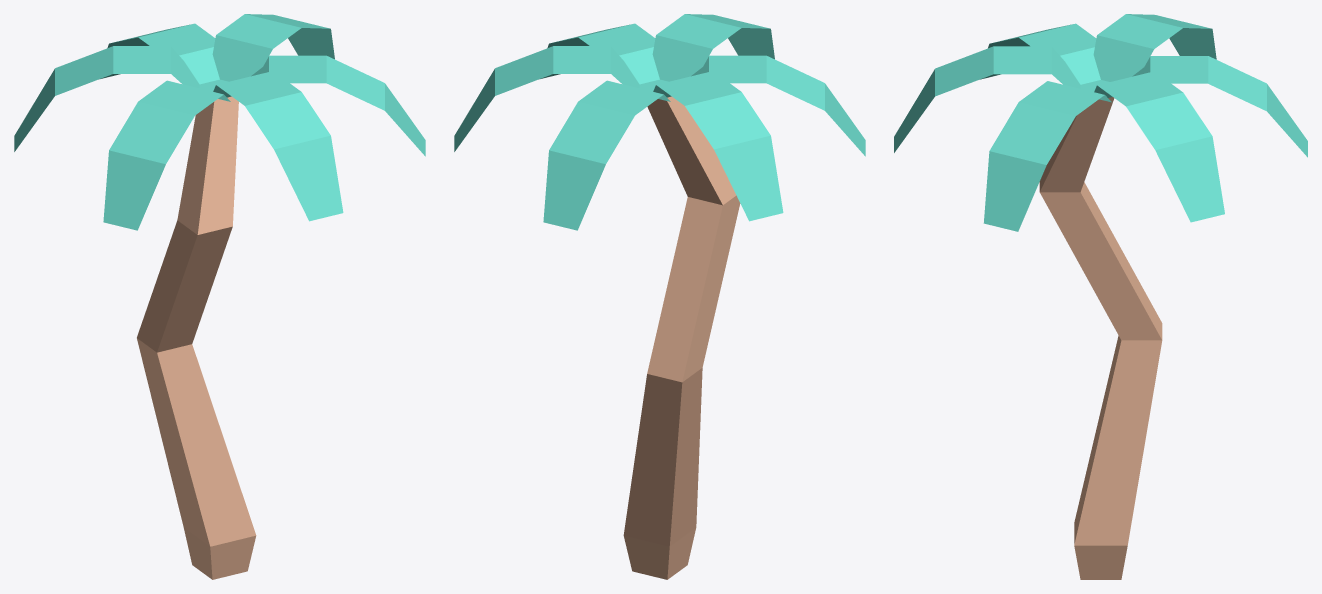
The model's file is tree_palmBend.gltf.
3 views of the same model, side by side, from view 1: azimuth 30°, elevation 25°; view 2: azimuth 150°, elevation 25°; view 3: azimuth 270°, elevation 25° (orthographic).
Visible parts, largest first — view 1: tree_palmBend; view 2: tree_palmBend; view 3: tree_palmBend.
Boxes of the visible parts, x1,y1,x2,y2 form: tree_palmBend: (14, 14, 425, 579); tree_palmBend: (454, 14, 865, 579); tree_palmBend: (894, 14, 1307, 579).
Size of the model in its own units: 0.9355 by 1.38 by 1.01.
